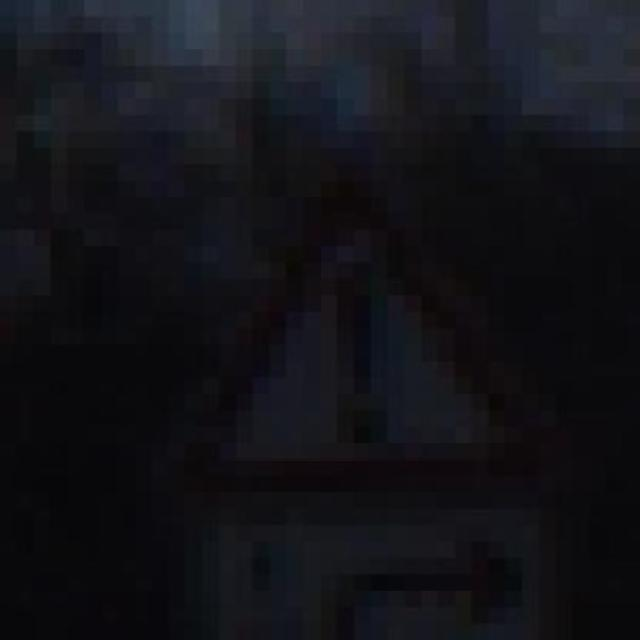Attention Please-: (118, 164, 573, 493)
